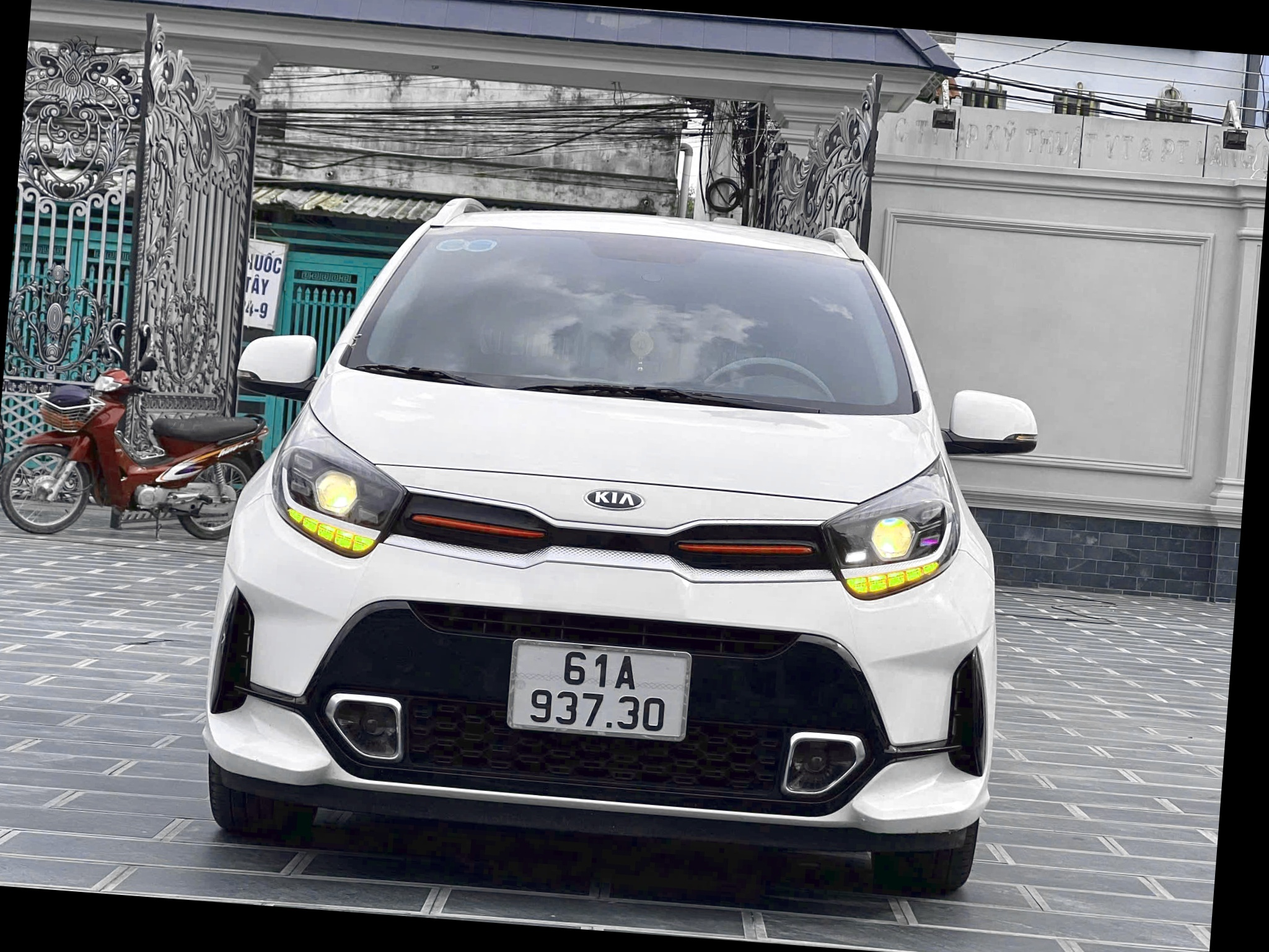Bien-so: (521, 637, 729, 748)
